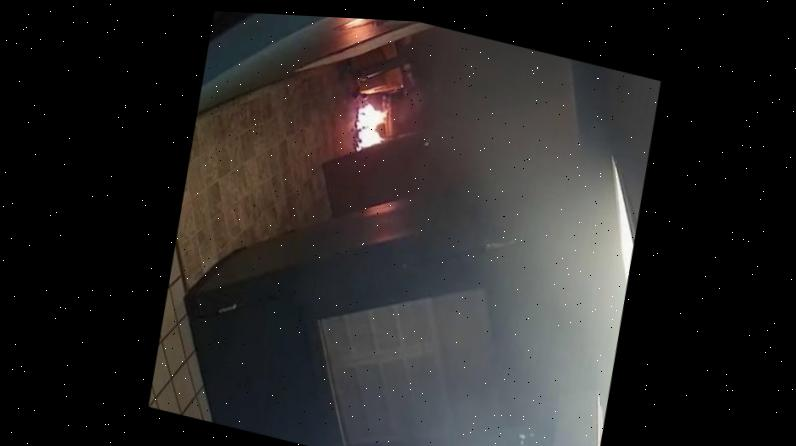fire: (343, 82, 403, 159)
